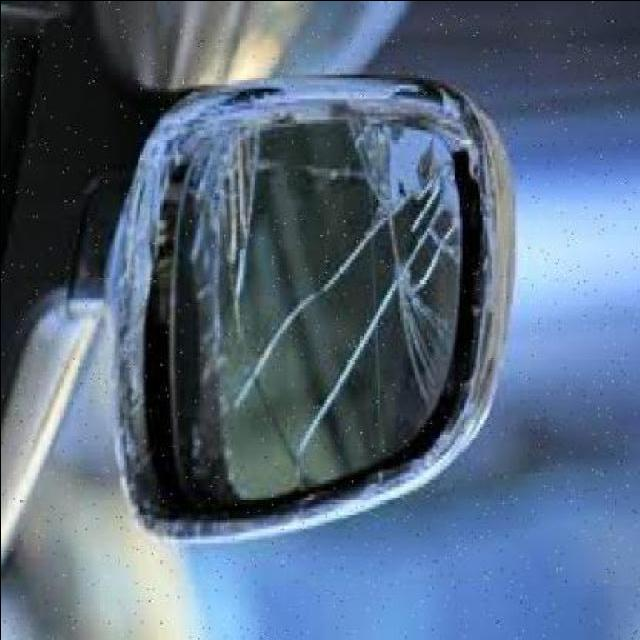Sidemirror-Damage: (88, 45, 540, 549)
